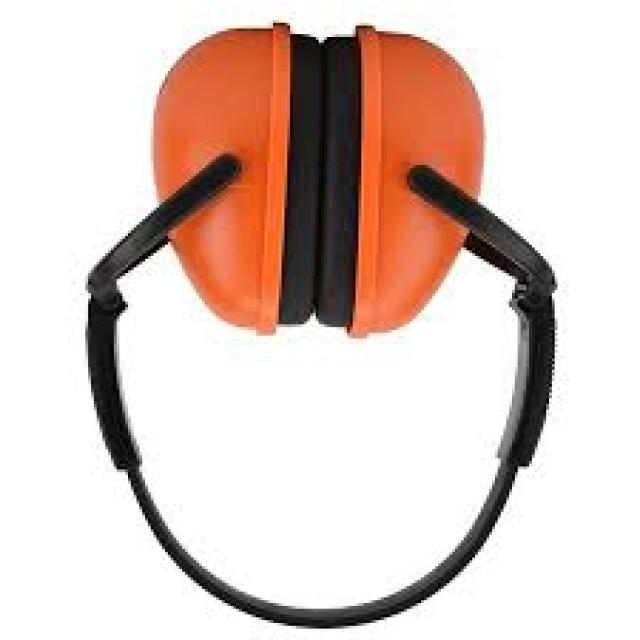Ear-Protection: (145, 25, 316, 338), (316, 31, 486, 344)
